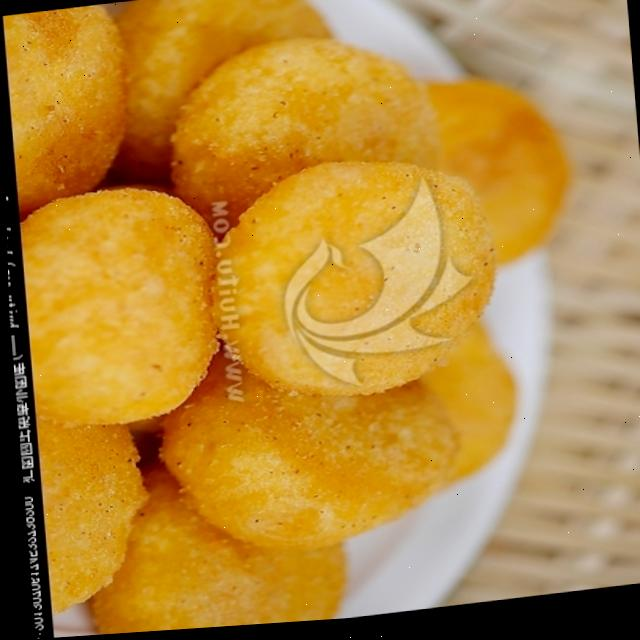炸货点心: (13, 0, 640, 639)
蛋糕甜品: (13, 0, 640, 639)
